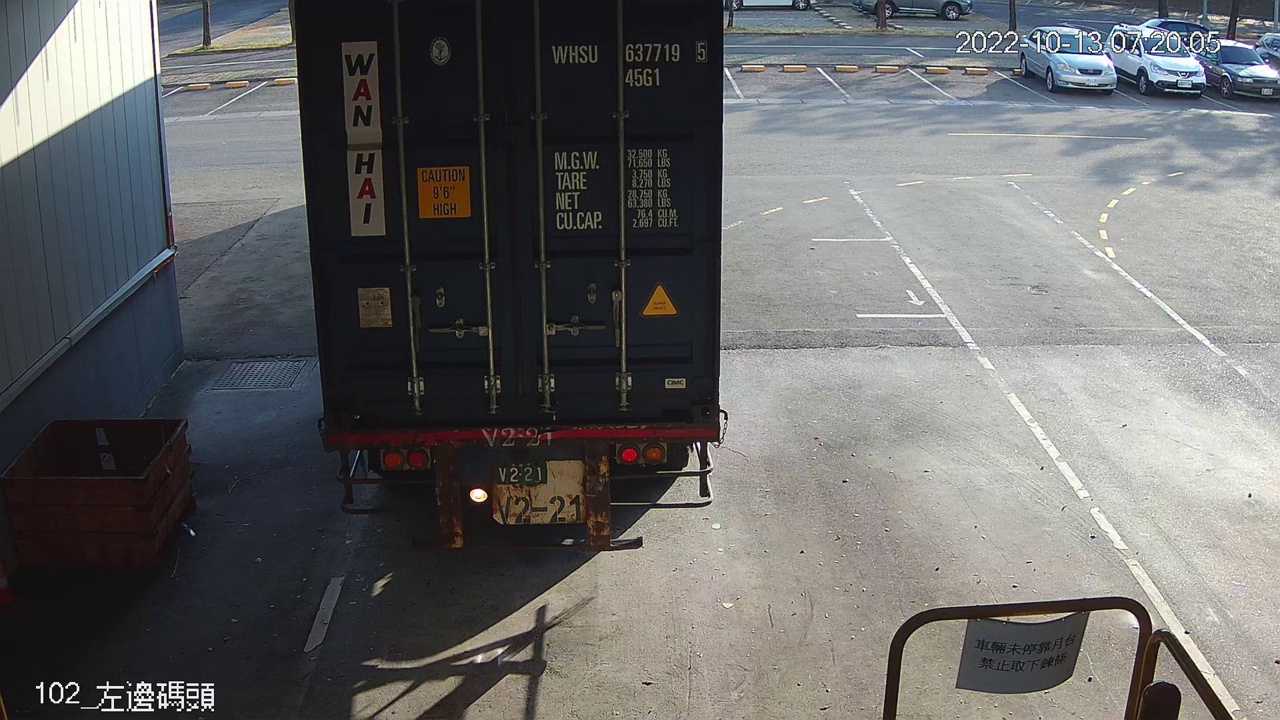container: (545, 34, 715, 93)
